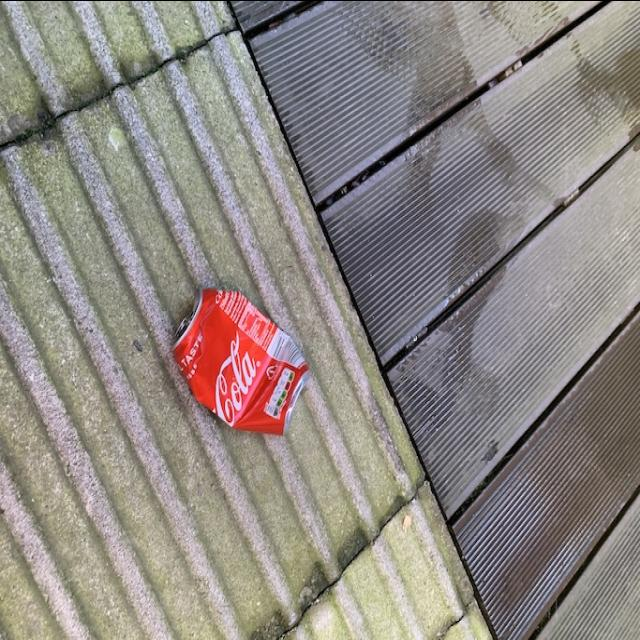Aluminum Can: (170, 283, 318, 437)
